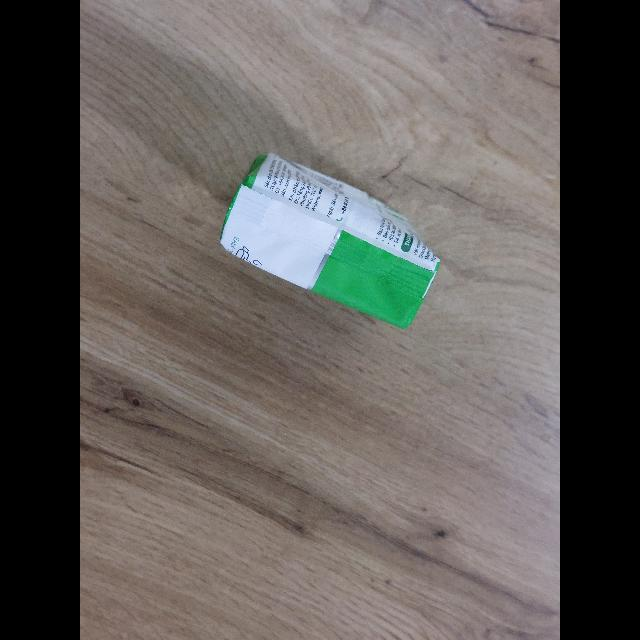khan_giay: (220, 154, 440, 328)
